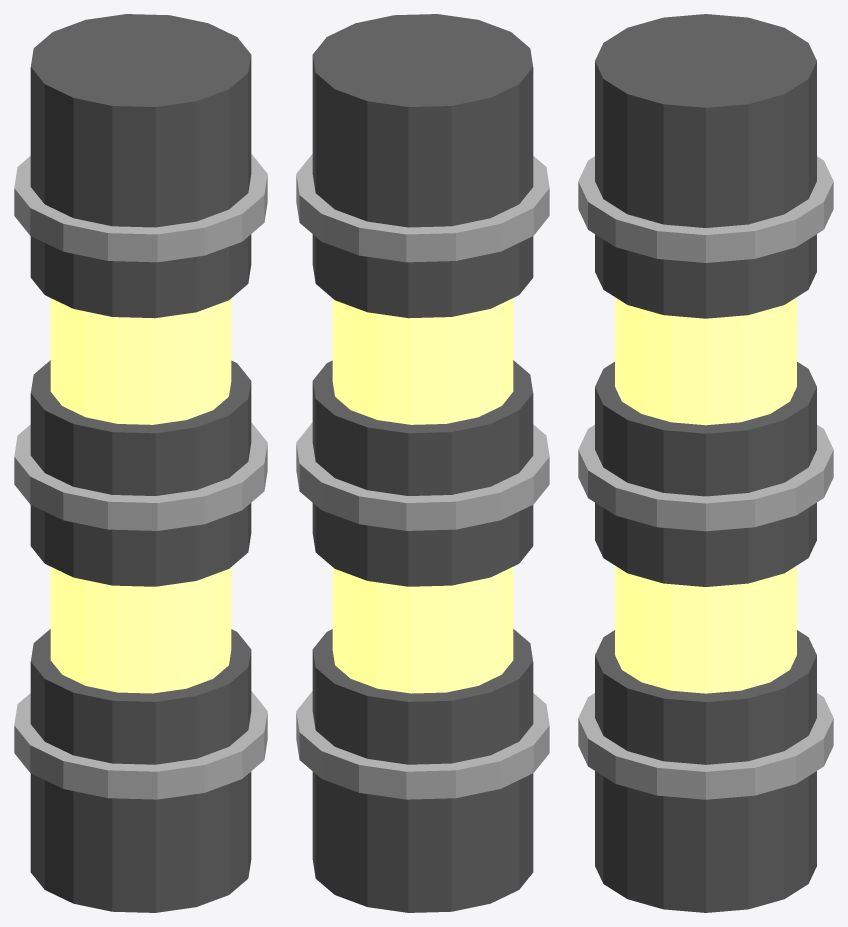
File: pillarb1.fbx
3 renders of one model, left to right at view 1: azimuth 30°, elevation 25°; view 2: azimuth 150°, elevation 25°; view 3: azimuth 270°, elevation 25°, orthographic.
Parts seen in each view (by area): view 1: Cube.013; view 2: Cube.013; view 3: Cube.013.
Part boxes in pixels (x1=…): Cube.013: x1=14, y1=14, x2=267, y2=912; Cube.013: x1=296, y1=14, x2=549, y2=912; Cube.013: x1=578, y1=14, x2=833, y2=912.
Bounding box in the file's own units: 0.575 × 2 × 0.575.
